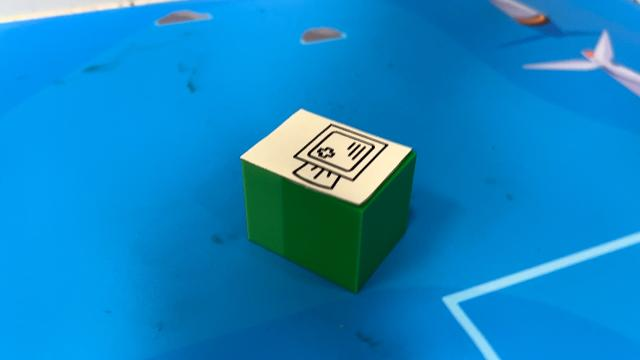napkin: (237, 106, 418, 294)
